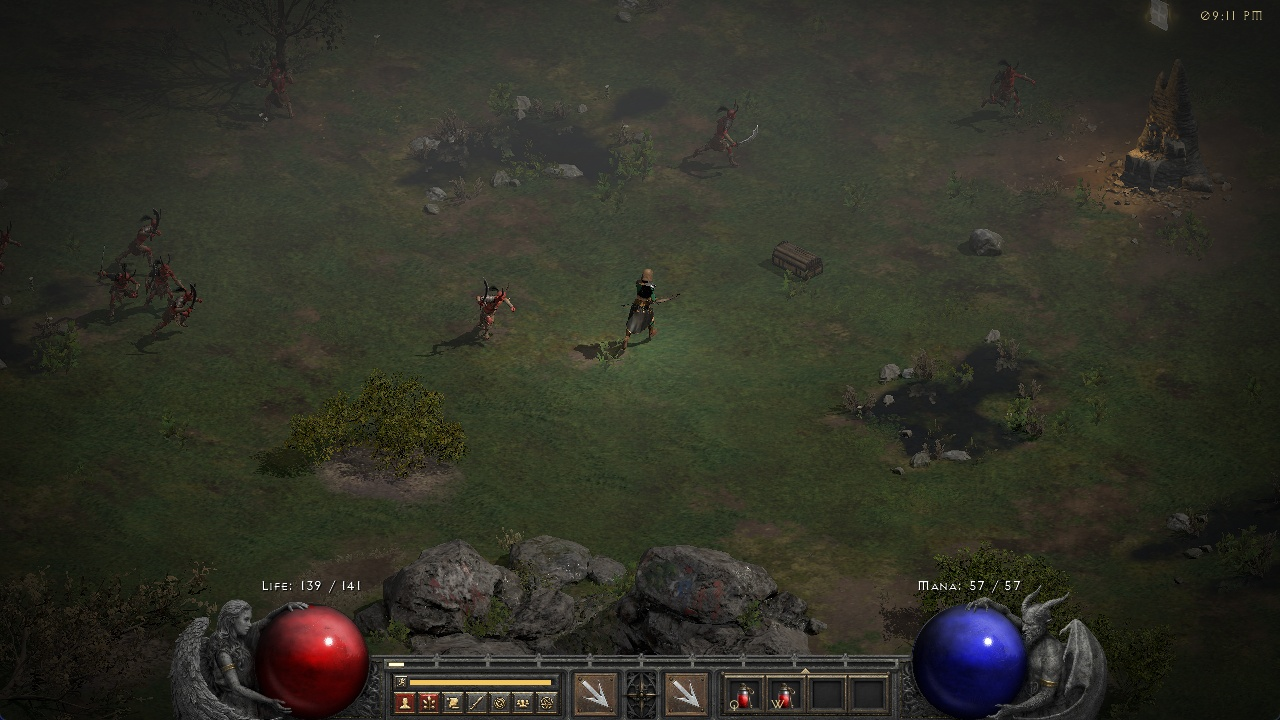fallen: (686, 100, 752, 168), (983, 59, 1042, 119), (466, 279, 512, 339), (97, 263, 141, 315), (259, 60, 297, 114), (159, 289, 208, 327), (122, 215, 164, 259), (146, 261, 182, 287)
